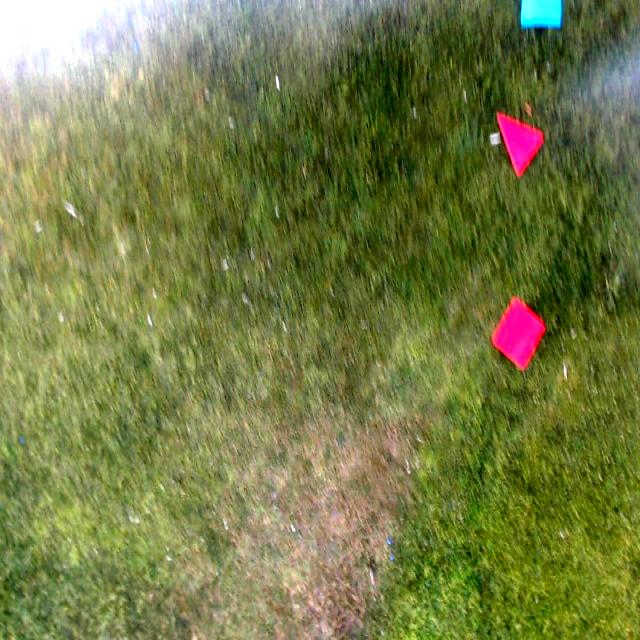red_square: (494, 298, 544, 371)
red_triangle: (494, 113, 544, 174)
